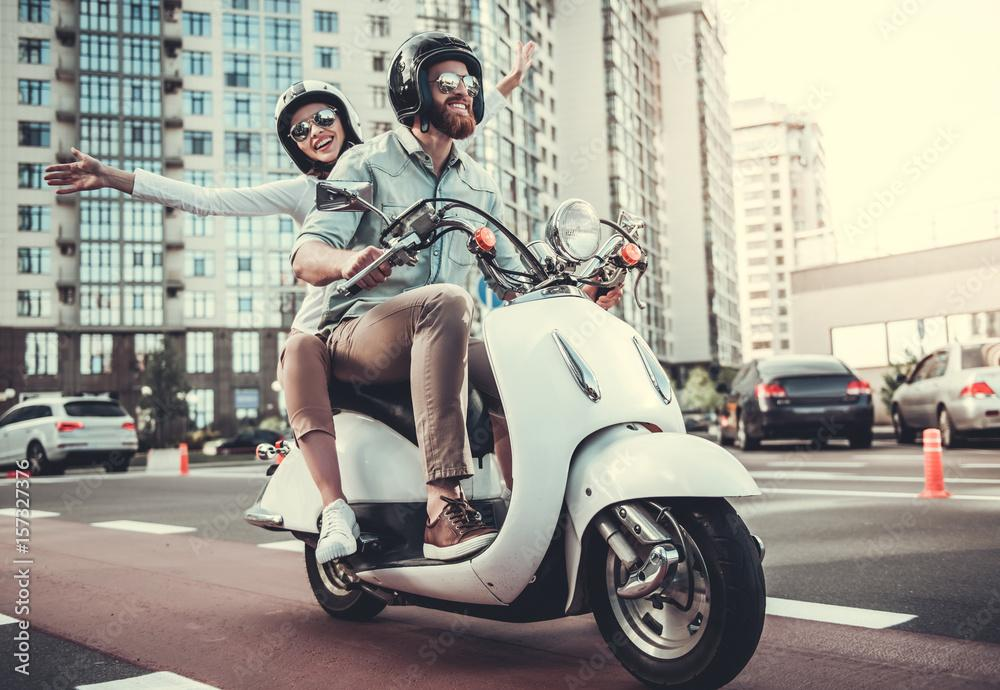helmet: (385, 30, 485, 141), (273, 79, 365, 177)
